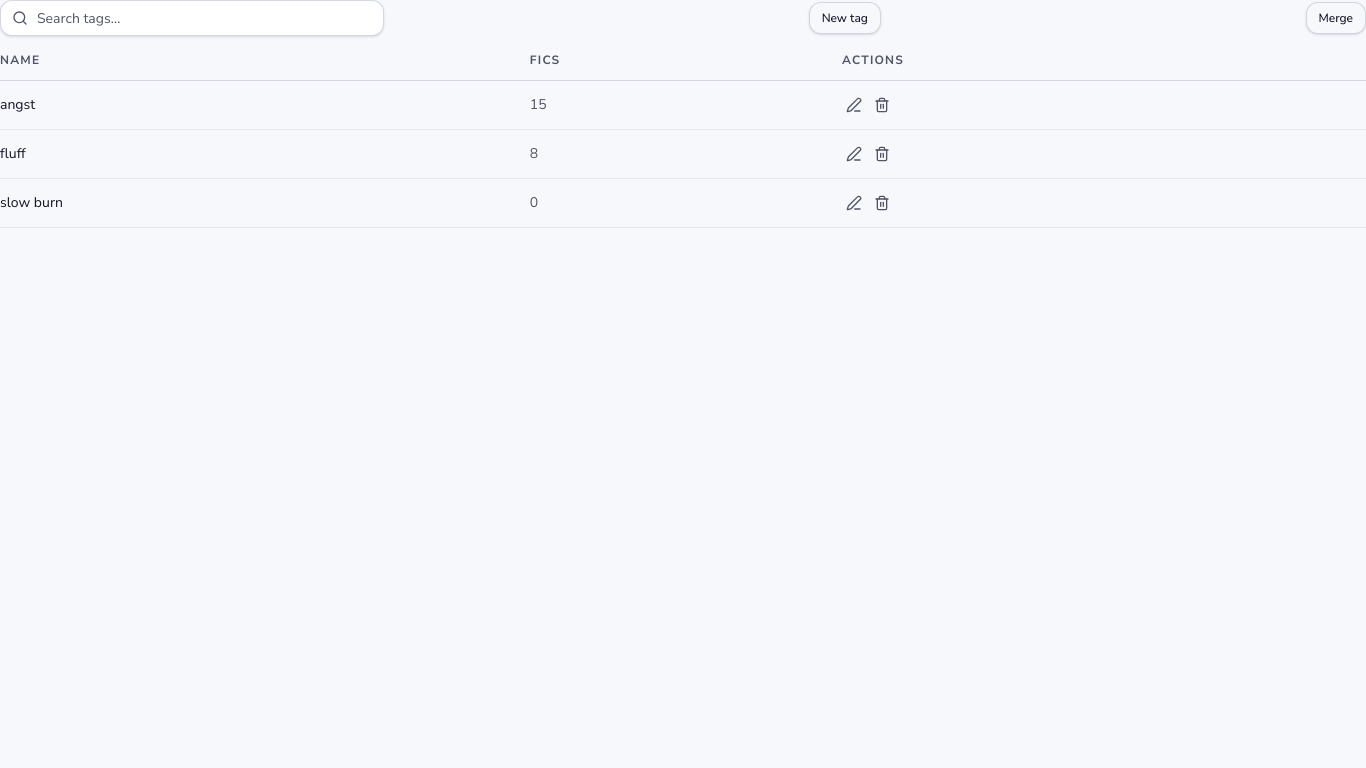
Test case: TagsSection › opens confirm modal for tag with zero fics
This screenshot has width=1366, height=768.
Expected: the text "slow burn" is shown, [0,193,63,212]
Click the button named "Delete tag" in the row of "slow burn".
click(882, 203)  # box [870,191,894,215]
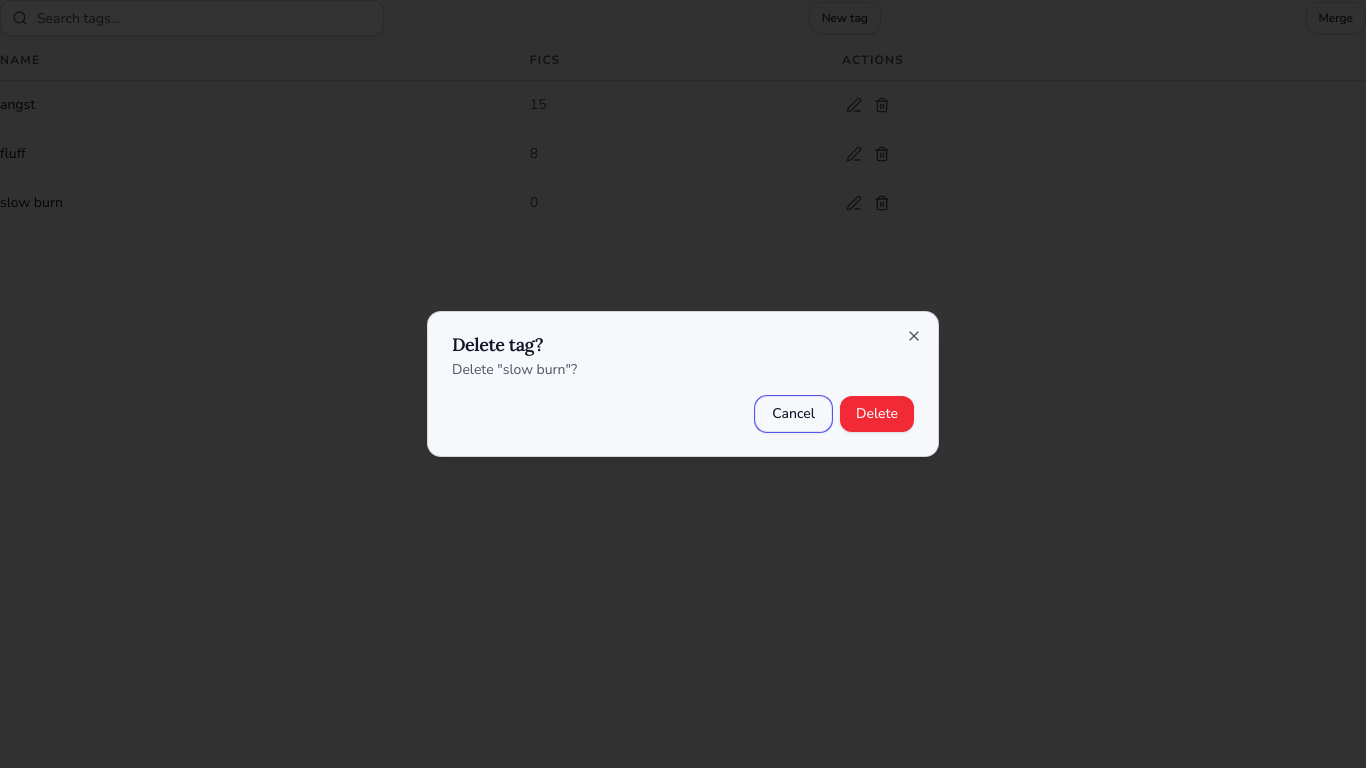
Result: the heading "Delete tag?" is shown at [452,333,543,356]
